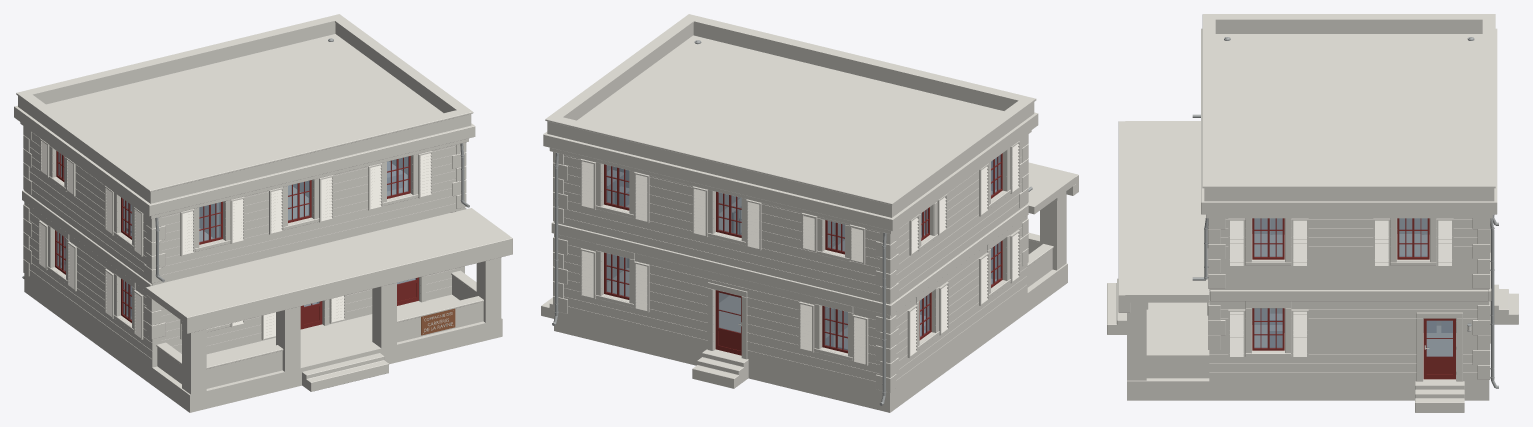
File: cite_carriere_H01.glb
3 renders of one model, left to right at view 1: azimuth 30°, elevation 25°; view 2: azimuth 150°, elevation 25°; view 3: azimuth 270°, elevation 25°, orthographic. The views are drawn at different scales.
Visible parts, largest first — view 1: concrete_cast, plaster_cream_warm, basalt_dressed, shutter_paint, flagstone, basalt_masonry, glass, new_timber_oxblood_red, limestone_flag, sign_compagnie_ravine, floor_tiles, limewash (+3 smaller); view 2: plaster_cream_warm, basalt_dressed, concrete_cast, shutter_paint, basalt_masonry, glass, new_timber_oxblood_red, limestone_flag, DoorLeaf_04_R_in, steel_painted_worn, floor_tiles, limewash (+1 smaller); view 3: concrete_cast, plaster_cream_warm, basalt_dressed, basalt_masonry, shutter_paint, flagstone, limestone_flag, glass, floor_tiles, DoorLeaf_03_L_in, new_timber_oxblood_red, steel_painted_worn.
Part boxes in pixels (bbox=[...]): concrete_cast: bbox=[46, 34, 509, 315]; plaster_cream_warm: bbox=[14, 14, 512, 368]; basalt_dressed: bbox=[24, 132, 501, 394]; shutter_paint: bbox=[38, 138, 432, 340]; flagstone: bbox=[152, 294, 502, 401]; basalt_masonry: bbox=[24, 274, 502, 412]; glass: bbox=[56, 152, 408, 320]; new_timber_oxblood_red: bbox=[55, 151, 410, 322]; limestone_flag: bbox=[302, 353, 388, 391]; sign_compagnie_ravine: bbox=[421, 308, 455, 335]; floor_tiles: bbox=[131, 162, 414, 317]; limewash: bbox=[61, 157, 407, 250]; plaster_cream_warm: bbox=[543, 14, 1078, 392]; basalt_dressed: bbox=[554, 149, 1066, 393]; concrete_cast: bbox=[577, 35, 1074, 206]; shutter_paint: bbox=[580, 141, 1019, 365]; basalt_masonry: bbox=[554, 271, 1067, 412]; glass: bbox=[606, 154, 1000, 350]; new_timber_oxblood_red: bbox=[604, 153, 1002, 353]; limestone_flag: bbox=[541, 297, 748, 388]; DoorLeaf_04_R_in: bbox=[715, 290, 741, 355]; steel_painted_worn: bbox=[552, 40, 1032, 405]; floor_tiles: bbox=[607, 198, 847, 346]; limewash: bbox=[607, 165, 996, 332]; concrete_cast: bbox=[1125, 34, 1482, 294]; plaster_cream_warm: bbox=[1118, 14, 1497, 381]; basalt_dressed: bbox=[1127, 218, 1489, 381]; basalt_masonry: bbox=[1127, 376, 1489, 400]; shutter_paint: bbox=[1207, 218, 1490, 358]; flagstone: bbox=[1127, 302, 1209, 388]; limestone_flag: bbox=[1107, 278, 1518, 412]; glass: bbox=[1254, 218, 1427, 347]; floor_tiles: bbox=[1252, 234, 1456, 375]; DoorLeaf_03_L_in: bbox=[1423, 318, 1456, 379]; new_timber_oxblood_red: bbox=[1252, 218, 1429, 350]; steel_painted_worn: bbox=[1192, 37, 1498, 388].
Size of the model in its own units: 13.15 by 7.26 by 12.5.
